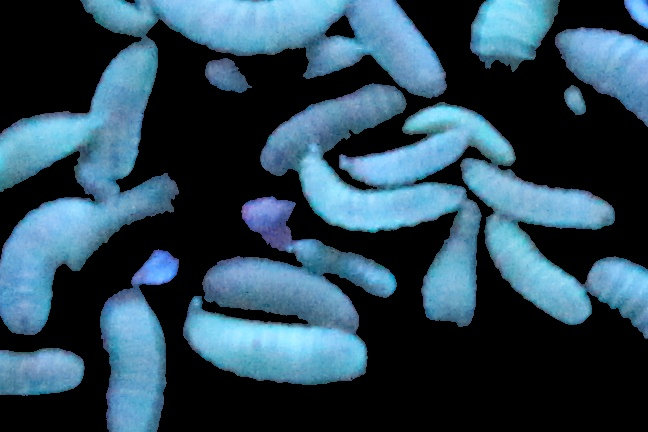larvae: (181, 301, 367, 382), (298, 150, 463, 227), (263, 91, 404, 180), (204, 256, 366, 330), (1, 199, 85, 336), (481, 223, 600, 319), (461, 162, 618, 229), (157, 1, 355, 54), (98, 287, 169, 431), (338, 1, 449, 93), (87, 39, 159, 178), (553, 23, 648, 128), (1, 108, 98, 188), (424, 201, 477, 332), (404, 101, 514, 164), (468, 1, 558, 78), (290, 240, 394, 299), (586, 253, 648, 347), (342, 136, 471, 180), (1, 347, 85, 396), (68, 1, 158, 33)
